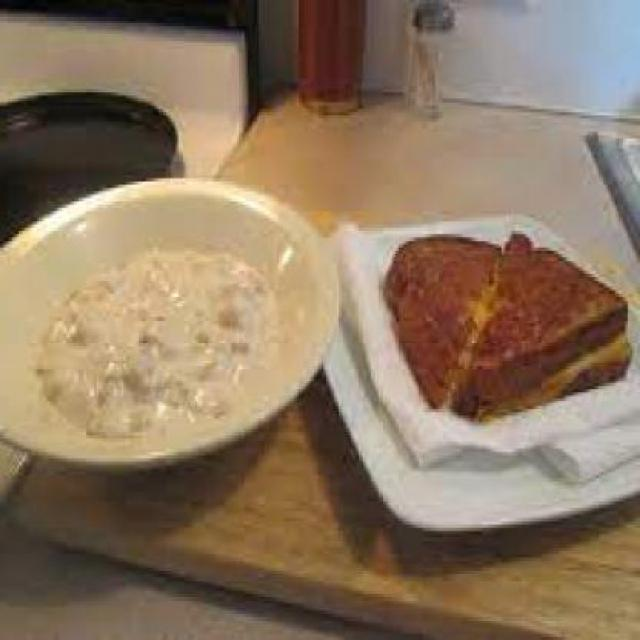clam chowder: (37, 224, 286, 468)
club sandwich: (380, 204, 638, 416)
